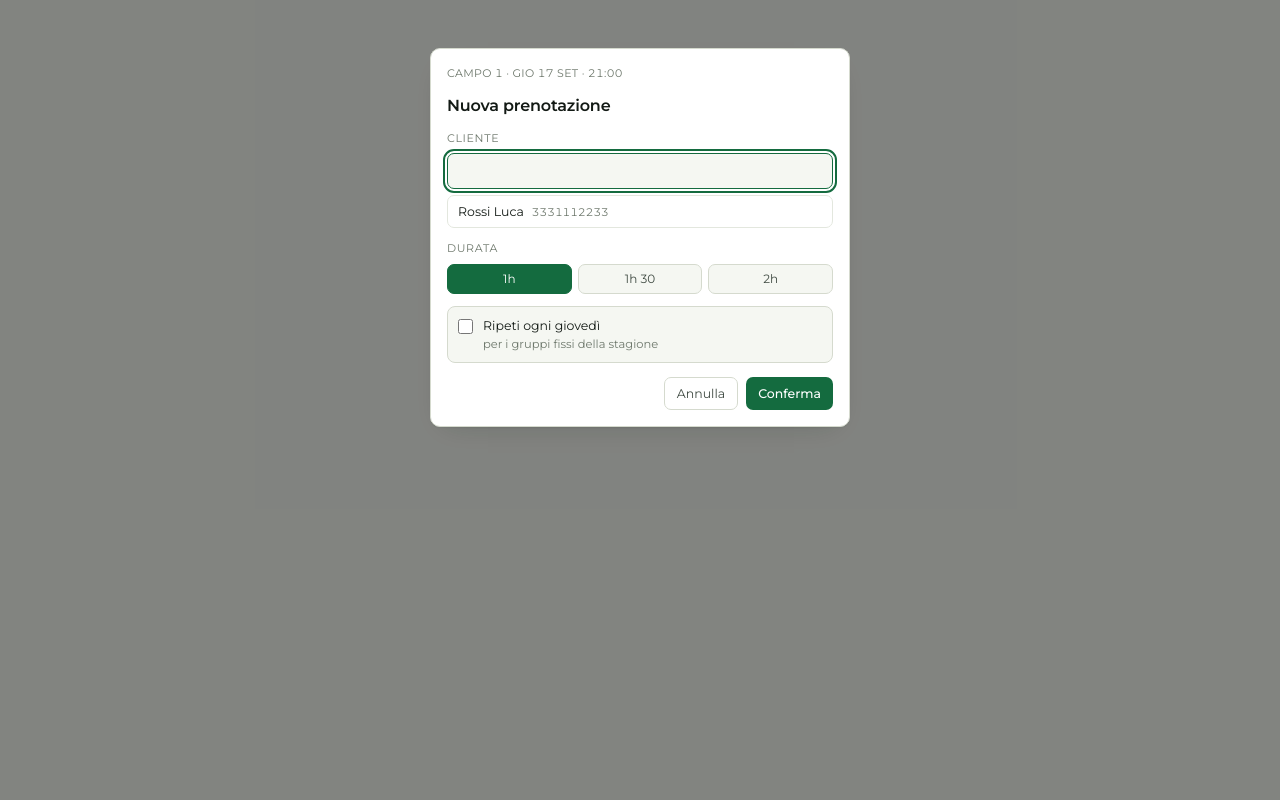
it: NewBookingDialog — riconoscere chi telefona › se la scheda non si riesce a leggere lo dice, invece di sembrare un cliente senza storia
The width and height of the screenshot is (1280, 800).
Type "Rossi" into the field labelled "Cliente" at (640, 171), box [447,153,833,189]
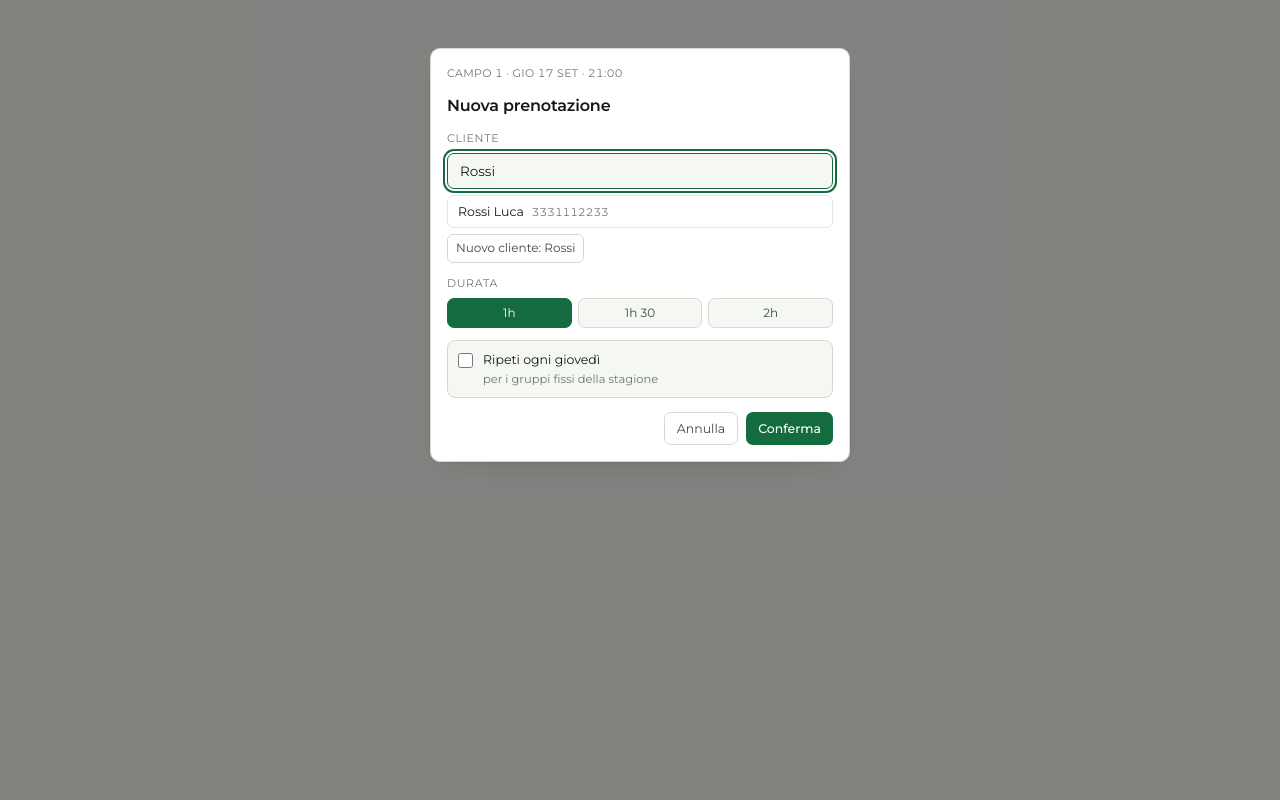
Click the button "Rossi Luca 3331112233" at (491, 212), box [448,196,832,228]
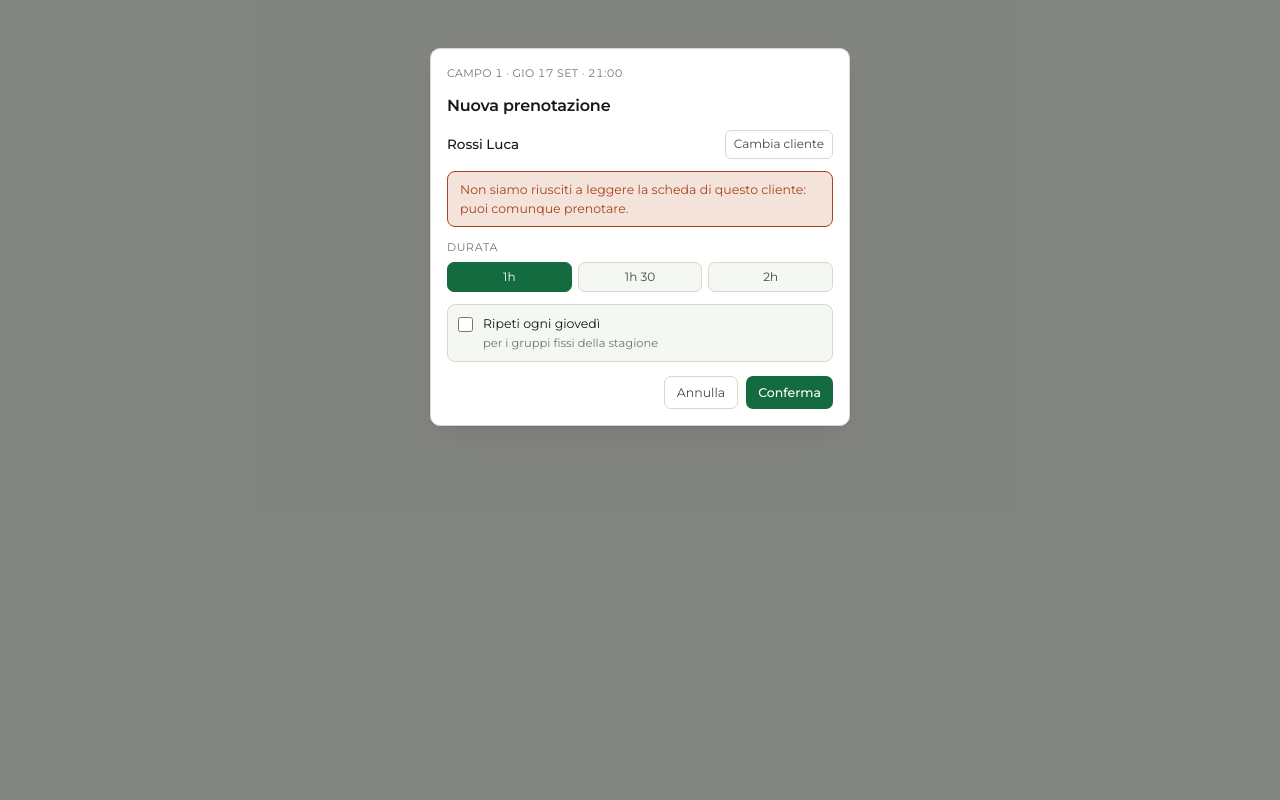
Expected: the text "Non siamo riusciti a leggere la scheda di questo cliente: puoi comunque prenotare." is shown, [460,182,806,216]
